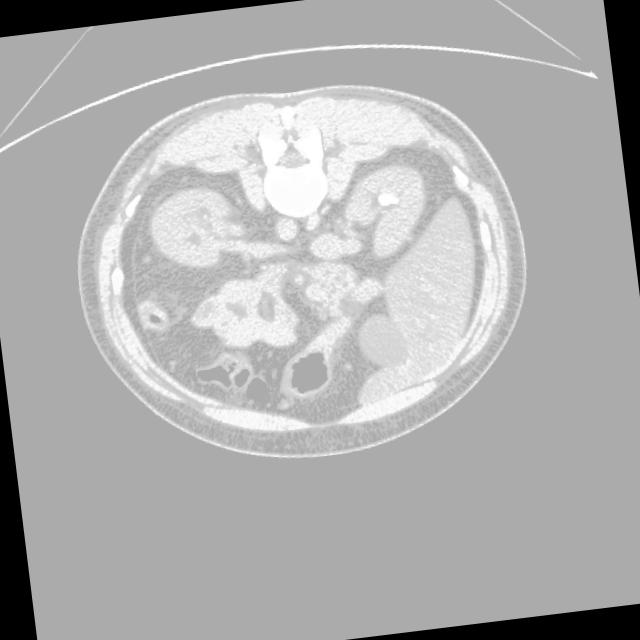STONE: (112, 259, 360, 464)
